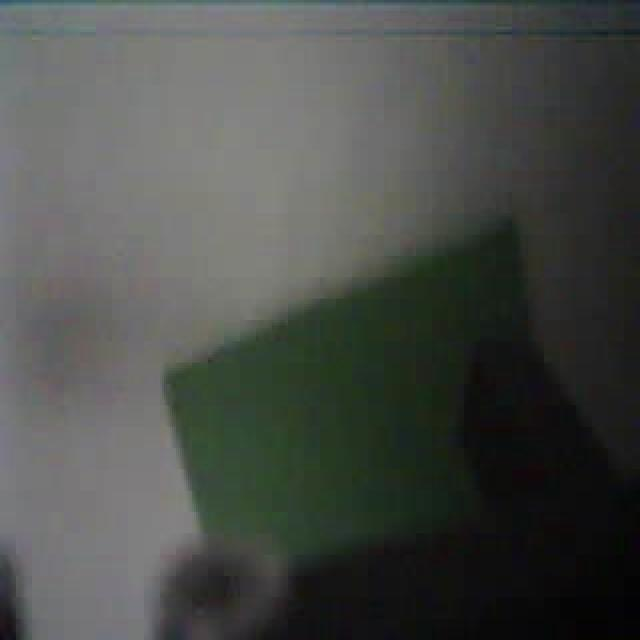green_box: (160, 216, 536, 573)
